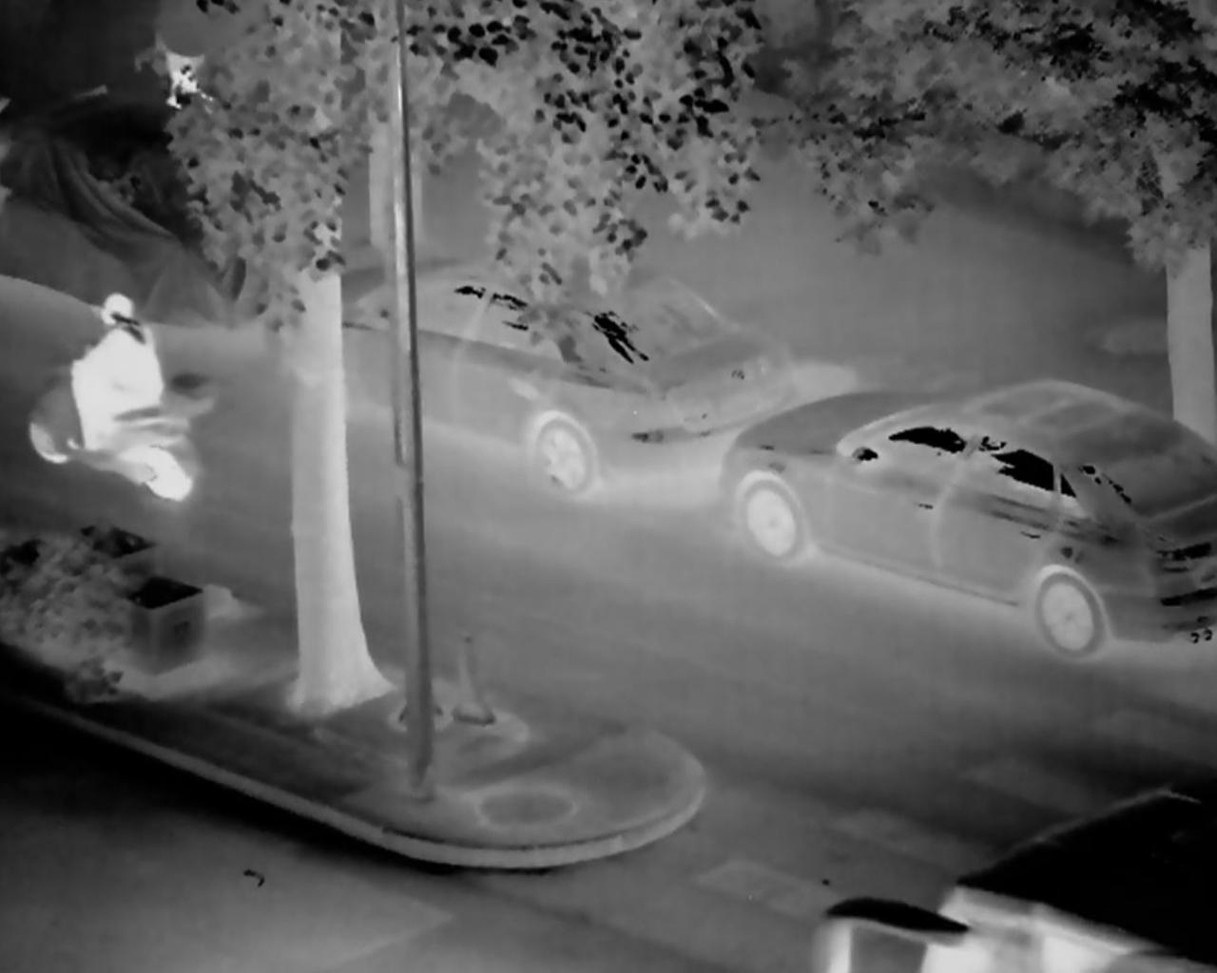person: (67, 294, 175, 472)
